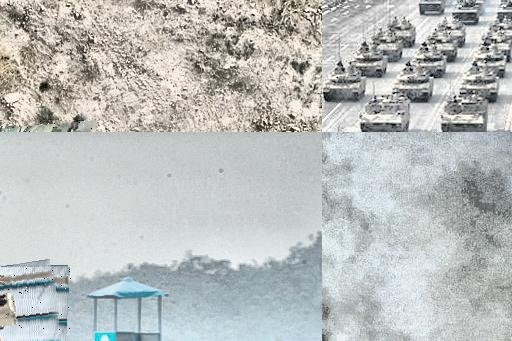tanks: (474, 21, 512, 79), (360, 95, 410, 133), (374, 18, 416, 63), (324, 62, 366, 102), (443, 96, 488, 133), (394, 62, 435, 102), (462, 63, 499, 102), (351, 43, 388, 79)
